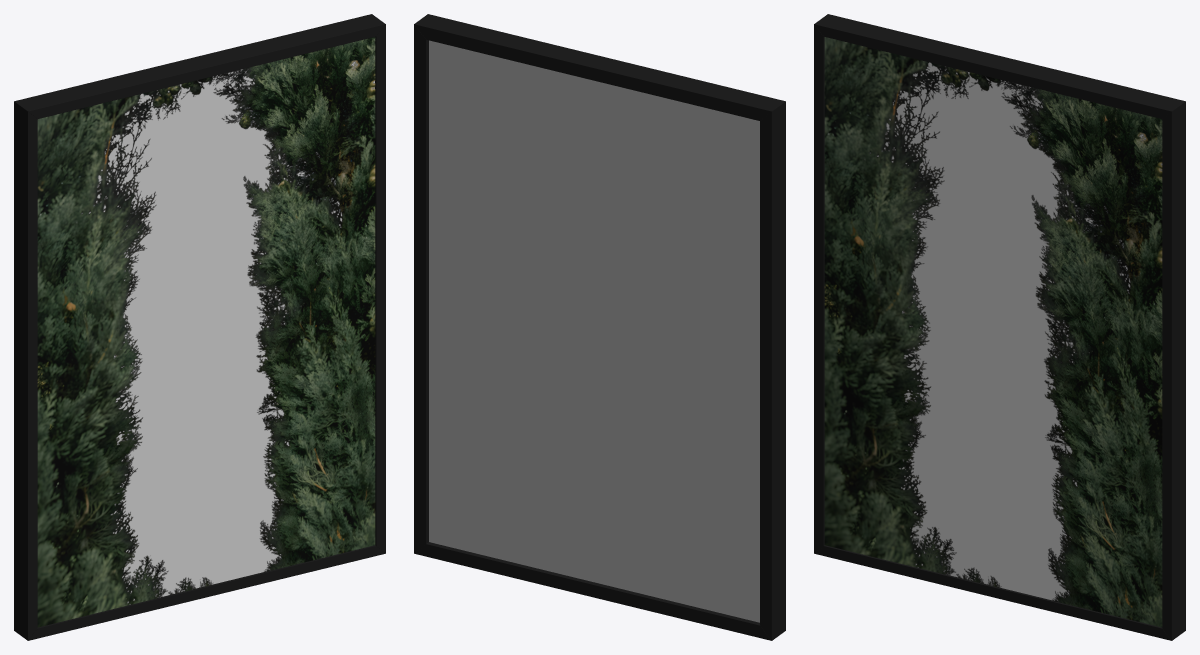
3 renders of one model, left to right at view 1: azimuth 30°, elevation 25°; view 2: azimuth 150°, elevation 25°; view 3: azimuth 330°, elevation 25°, orthographic.
Parts seen in each view (by area): view 1: mirror74829; view 2: mirror74829; view 3: mirror74829.
Part boxes in pixels (x1=…): mirror74829: x1=14, y1=14, x2=385, y2=640; mirror74829: x1=414, y1=14, x2=785, y2=640; mirror74829: x1=814, y1=14, x2=1185, y2=640.
Size of the model in its own units: 0.297 by 0.42 by 0.02.
3 materials, 2 textured.
